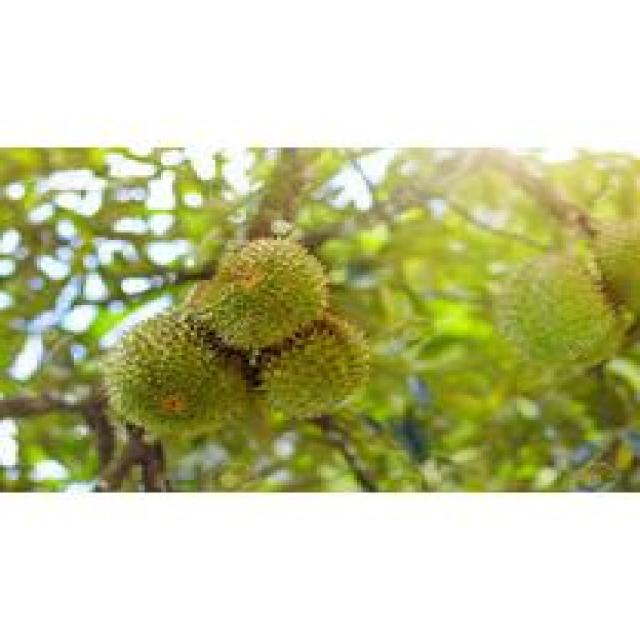fruit: (90, 300, 256, 455)
